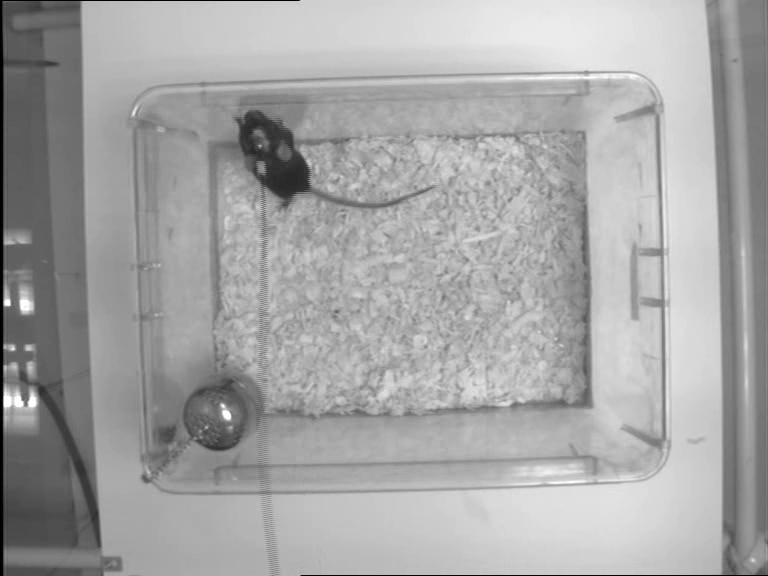mice: (229, 109, 439, 208)
